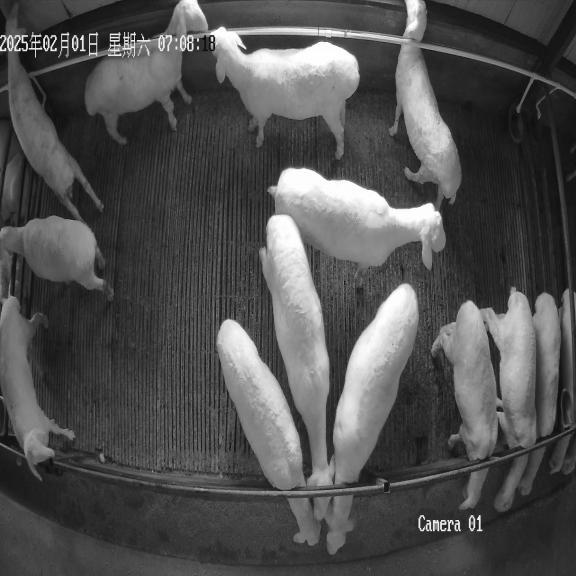eating: (324, 283, 418, 554), (216, 319, 321, 546), (259, 214, 335, 522), (431, 300, 498, 510), (481, 287, 536, 512), (517, 292, 561, 496)
stand: (268, 168, 445, 287), (208, 27, 360, 159), (84, 0, 208, 144), (7, 52, 103, 220), (389, 0, 461, 211), (0, 296, 75, 480), (0, 216, 114, 300), (5, 2, 24, 36)
